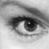eye: (25, 21, 37, 32)
